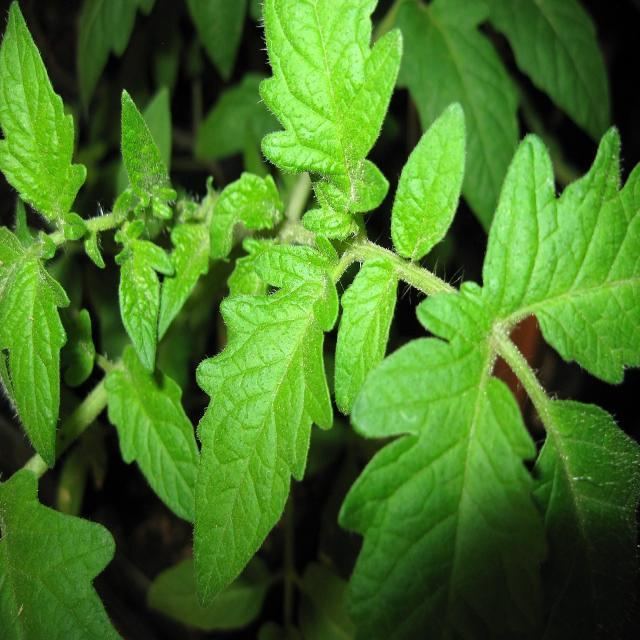Healthy Leaf: (356, 319, 534, 619), (188, 248, 328, 604), (260, 2, 388, 230), (95, 350, 200, 514), (0, 2, 78, 220), (488, 125, 561, 312), (0, 231, 60, 457), (393, 98, 467, 260), (113, 230, 165, 374)
